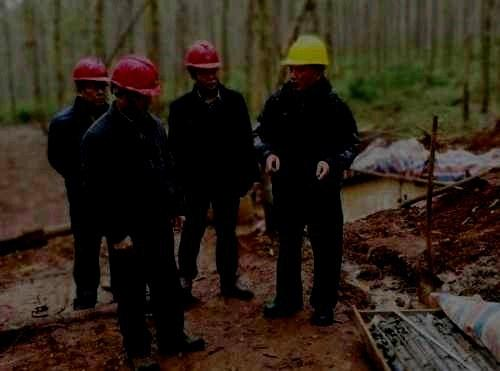helmet: (109, 52, 162, 115), (280, 33, 330, 90), (71, 54, 112, 105), (184, 38, 222, 88)
